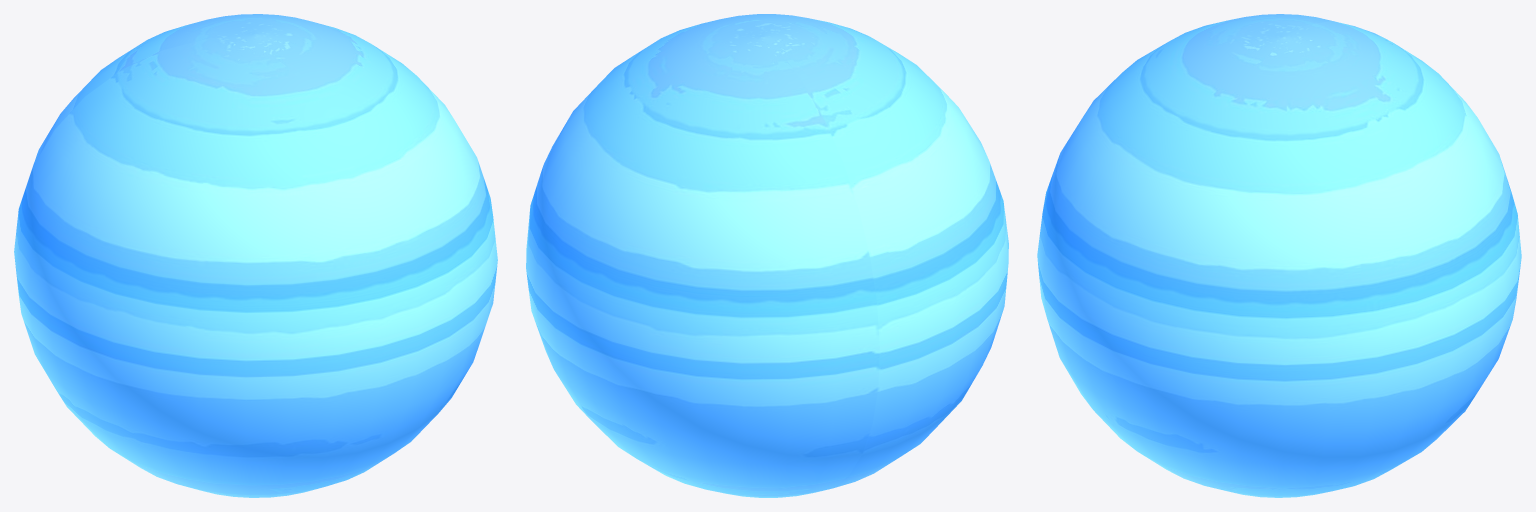
The model's file is uranus.glb.
The picture shows the model from 3 angles, left to right: view 1: azimuth 30°, elevation 25°; view 2: azimuth 150°, elevation 25°; view 3: azimuth 270°, elevation 25°; orthographic projection.
Visible parts, largest first — view 1: Saturn; view 2: Saturn; view 3: Saturn.
Boxes of the visible parts, x1,y1,x2,y2 form: Saturn: [14, 14, 497, 497]; Saturn: [526, 14, 1008, 497]; Saturn: [1037, 14, 1521, 497].
Bounding box in the file's own units: 1.22 × 1.22 × 1.22.
Materials: 1 (1 with a texture image).
